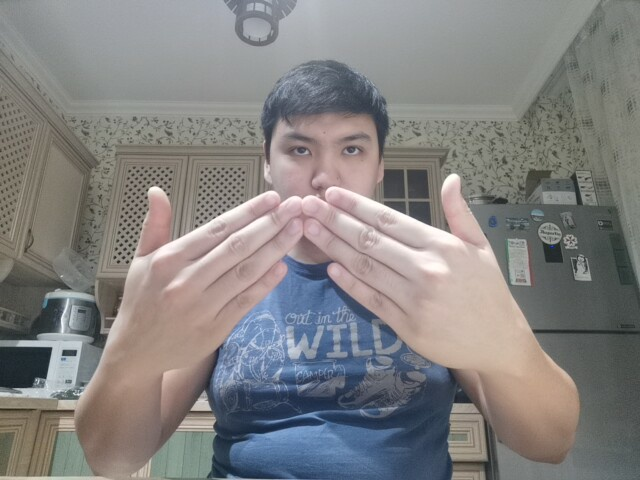Thanks: (99, 161, 568, 393)
